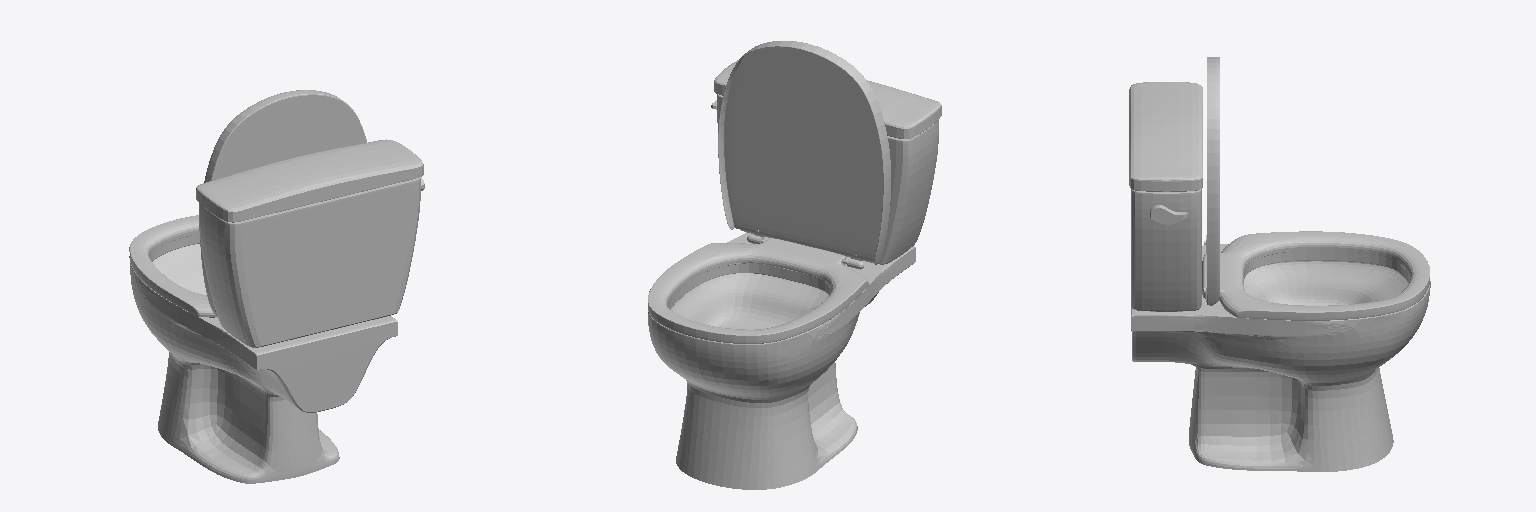
File: toilet.obj
The picture shows the model from 3 angles: view 1: azimuth 30°, elevation 25°; view 2: azimuth 150°, elevation 25°; view 3: azimuth 270°, elevation 25°; orthographic projection.
Parts seen in each view (by area): view 1: Cube.002_Cube.003, Cube.001_Cube.002, Cube.000; view 2: Cube.001_Cube.002, Cube.000, Cube.002_Cube.003; view 3: Cube.001_Cube.002, Cube.002_Cube.003, Cube.000.
Part boxes in pixels (bbox=[...]): Cube.002_Cube.003: bbox=[196, 139, 423, 347]; Cube.001_Cube.002: bbox=[129, 234, 397, 483]; Cube.000: bbox=[129, 215, 217, 317]; Cube.001_Cube.002: bbox=[648, 232, 915, 489]; Cube.000: bbox=[648, 238, 868, 343]; Cube.002_Cube.003: bbox=[714, 60, 941, 264]; Cube.001_Cube.002: bbox=[1131, 244, 1430, 471]; Cube.002_Cube.003: bbox=[1129, 82, 1202, 311]; Cube.000: bbox=[1202, 231, 1429, 320].
Size of the model in its own units: 2.95 by 5.05 by 3.69.